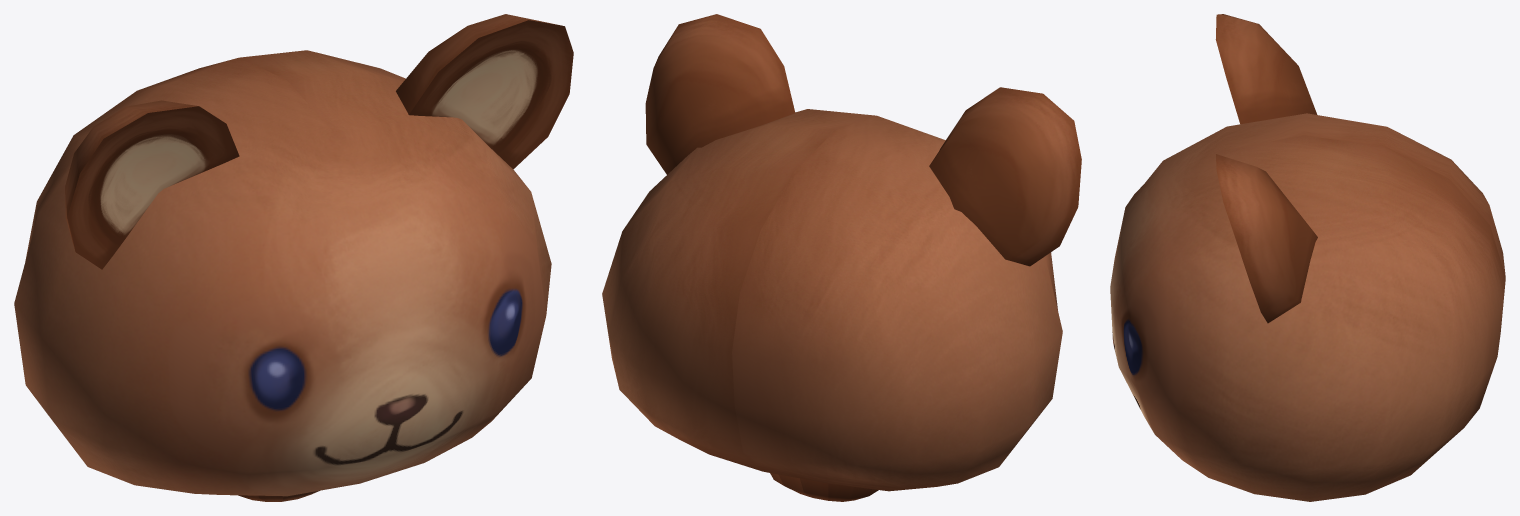
The model's file is bearHead.fbx.
3 renders of one model, left to right at view 1: azimuth 30°, elevation 25°; view 2: azimuth 150°, elevation 25°; view 3: azimuth 270°, elevation 25°, orthographic. The views are drawn at different scales.
Visible parts, largest first — view 1: bearHead; view 2: bearHead; view 3: bearHead.
Part boxes in pixels (x1,y1,x2,y2): bearHead: [14, 14, 573, 501]; bearHead: [602, 14, 1081, 501]; bearHead: [1110, 14, 1505, 501].
Size of the model in its own units: 33.76 by 29.82 by 27.5.
